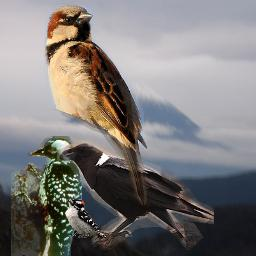Crow: (57, 140, 214, 250)
Swallow: (43, 5, 147, 205)
Woodpecker: (11, 136, 82, 256), (65, 199, 106, 238)
